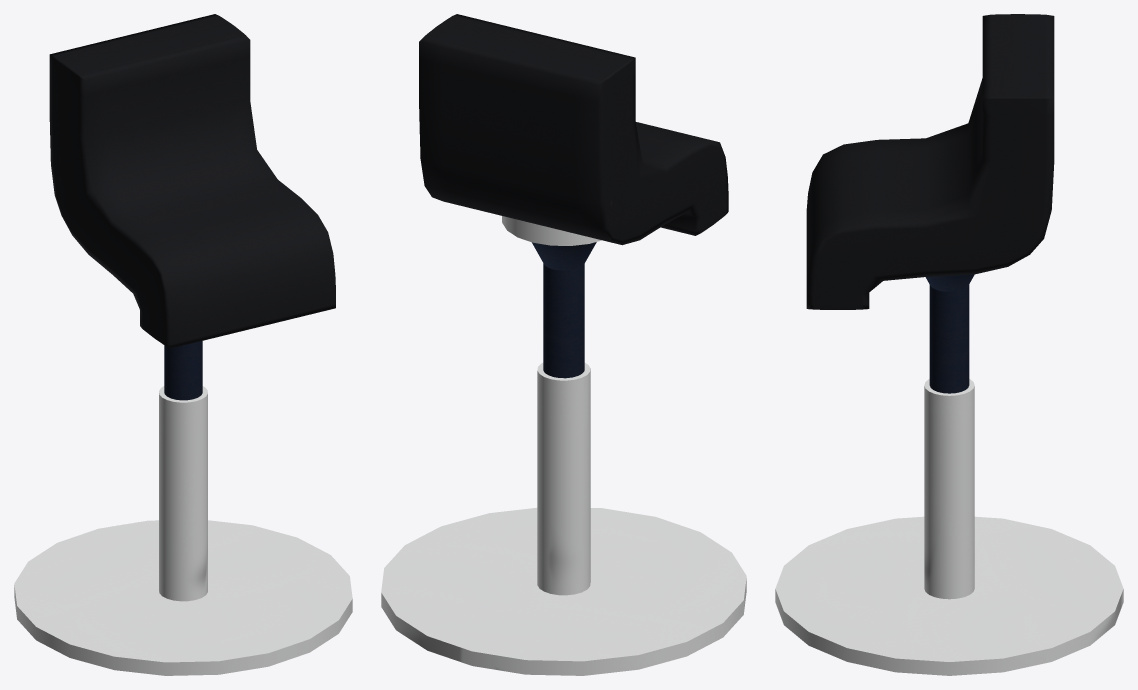
The model's file is Stool.fbx.
3 renders of one model, left to right at view 1: azimuth 30°, elevation 25°; view 2: azimuth 150°, elevation 25°; view 3: azimuth 270°, elevation 25°, orthographic. The views are drawn at different scales.
Visible parts, largest first — view 1: pasted__pCube12; view 2: pasted__pCube12; view 3: pasted__pCube12.
Boxes of the visible parts, x1,y1,x2,y2 form: pasted__pCube12: (14, 14, 352, 675); pasted__pCube12: (381, 14, 746, 675); pasted__pCube12: (775, 14, 1123, 675).
Size of the model in its own units: 1.07 by 1.86 by 1.07.
